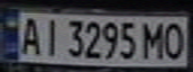2: (81, 18, 103, 60)
3: (63, 17, 84, 59)
5: (118, 19, 142, 60)
9: (100, 18, 121, 61)
A: (18, 15, 45, 56)
I: (39, 16, 63, 57)
M: (139, 19, 169, 61)
O: (160, 19, 190, 61)
